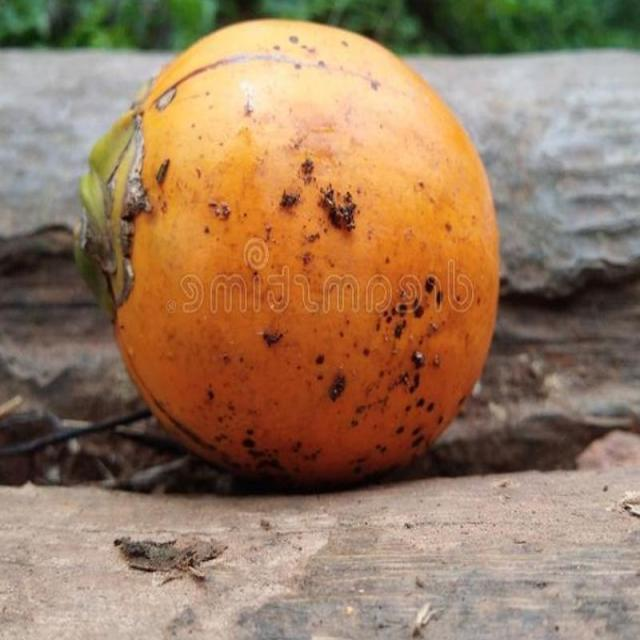good: (76, 18, 502, 493)
